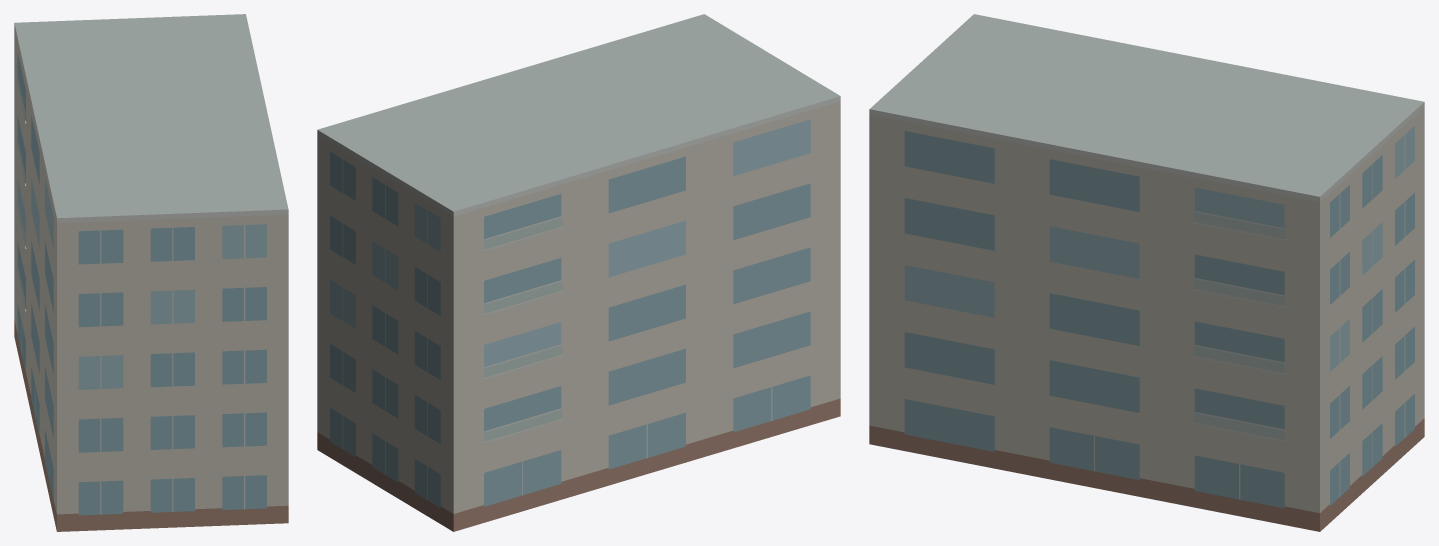
Rendered from survey-upis-32551309.glb.
3 renders of one model, left to right at view 1: azimuth 30°, elevation 25°; view 2: azimuth 150°, elevation 25°; view 3: azimuth 270°, elevation 25°, orthographic. The views are drawn at different scales.
Parts seen in each view (by area): view 1: survey-upis-32551309.tmp; view 2: survey-upis-32551309.tmp; view 3: survey-upis-32551309.tmp.
Part boxes in pixels (bbox=[...]): survey-upis-32551309.tmp: bbox=[14, 14, 288, 531]; survey-upis-32551309.tmp: bbox=[317, 14, 840, 531]; survey-upis-32551309.tmp: bbox=[869, 14, 1424, 531].
Size of the model in its own units: 17.86 by 15.25 by 22.91.
